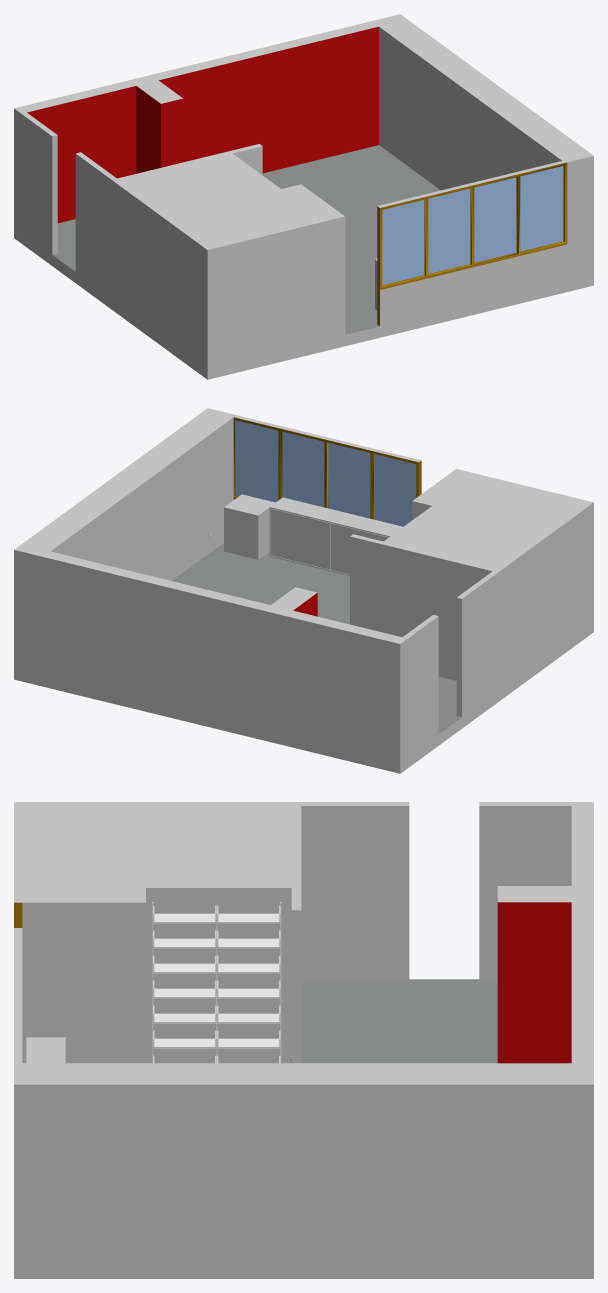
Rendered from EdgeRoom.gltf.
3 views of the same model, one above another, from view 1: azimuth 30°, elevation 25°; view 2: azimuth 150°, elevation 25°; view 3: azimuth 270°, elevation 25° (orthographic). The views are drawn at different scales.
Parts seen in each view (by area): view 1: Edge Floor plan _birdseye; view 2: Edge Floor plan _birdseye; view 3: Edge Floor plan _birdseye.
Boxes of the visible parts, x1=… form: Edge Floor plan _birdseye: x1=14, y1=14, x2=593, y2=379; Edge Floor plan _birdseye: x1=14, y1=408, x2=593, y2=773; Edge Floor plan _birdseye: x1=14, y1=802, x2=593, y2=1278.
Bounding box in the file's own units: 339 × 109 × 294.
